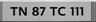character: (9, 6, 18, 16), (18, 6, 27, 16), (57, 6, 66, 16), (31, 6, 39, 16), (39, 5, 46, 16), (49, 6, 57, 15), (69, 6, 75, 16), (74, 6, 79, 16), (79, 6, 84, 16)
